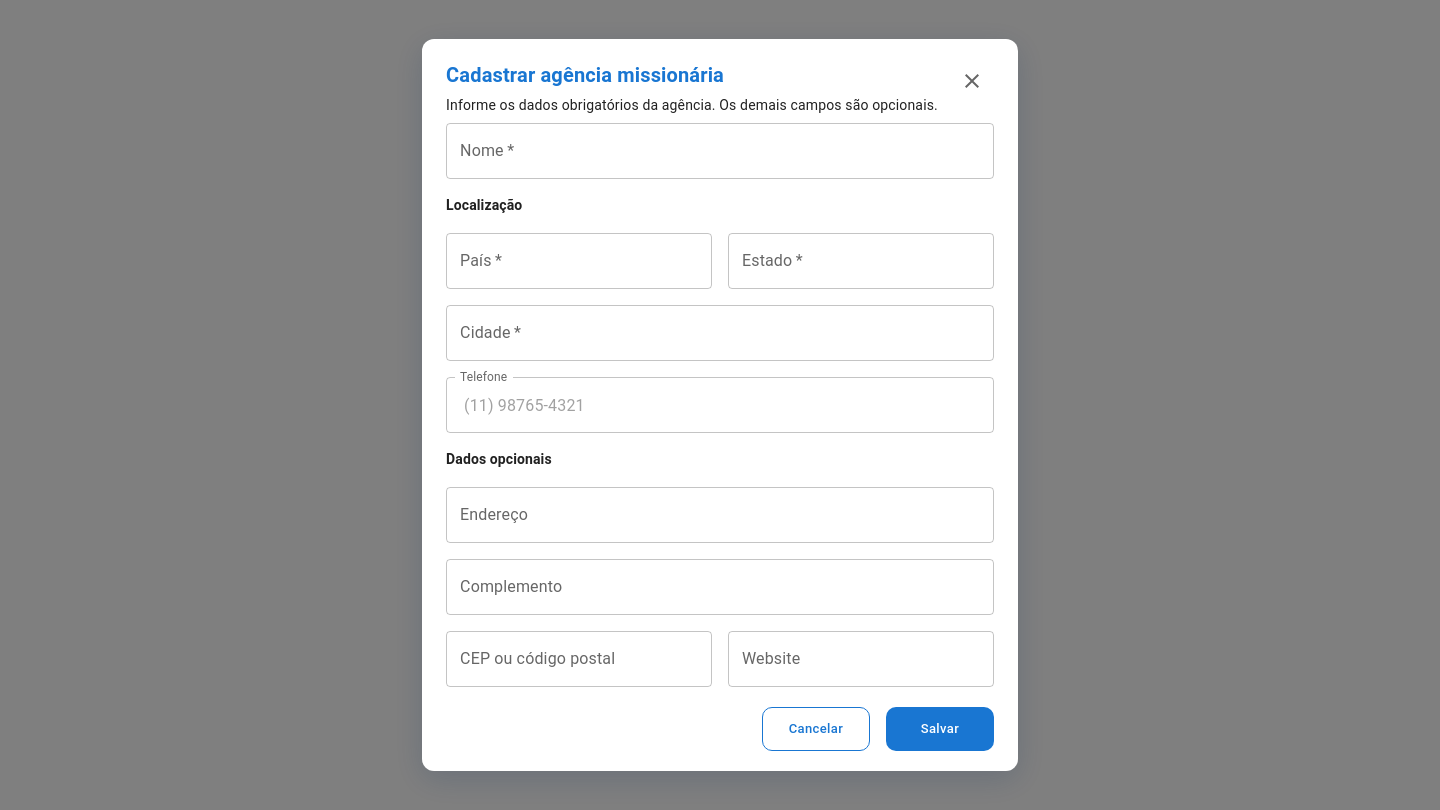
Scenario: CreateMissionaryAgencyModal › validates required fields before saving
The image size is (1440, 810).
Expected: the heading "Cadastrar agência missionária" is shown, top-left (446, 63), bottom-right (724, 87)
Click the button "Salvar" at (940, 729), box top-left (886, 707), bottom-right (994, 751)
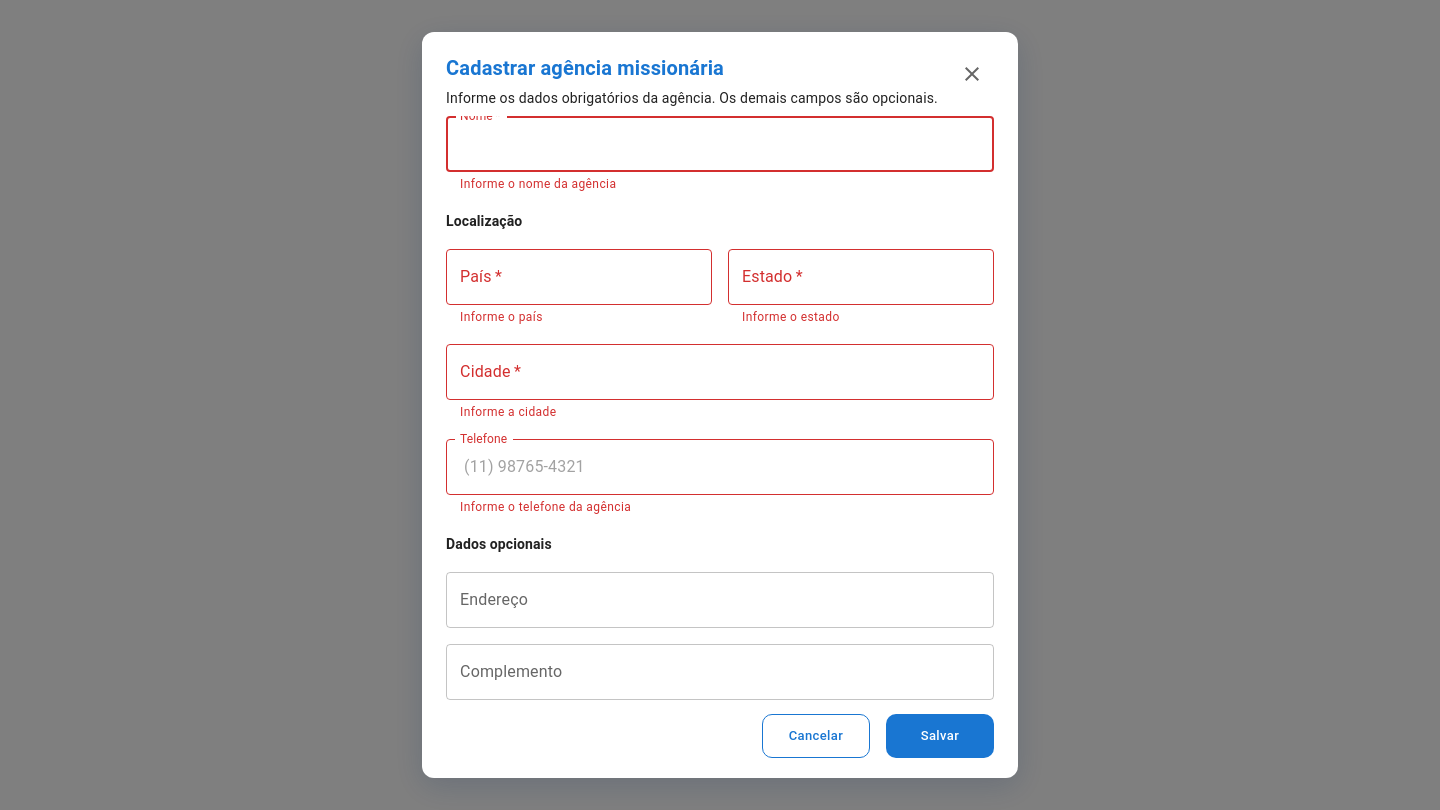
Result: the text "Informe o nome da agência" is shown at top-left (460, 177), bottom-right (616, 191)
Result: the text "Informe o país" is shown at top-left (460, 310), bottom-right (543, 324)
Result: the text "Informe o estado" is shown at top-left (742, 310), bottom-right (840, 324)
